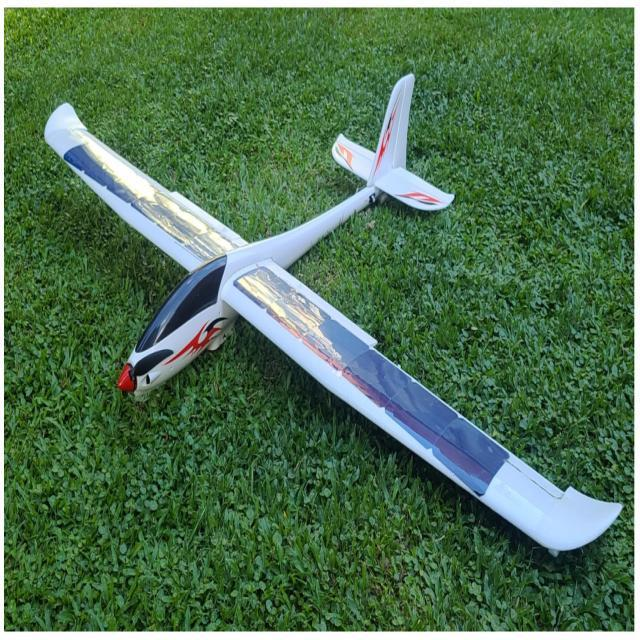iha: (29, 59, 621, 610)
